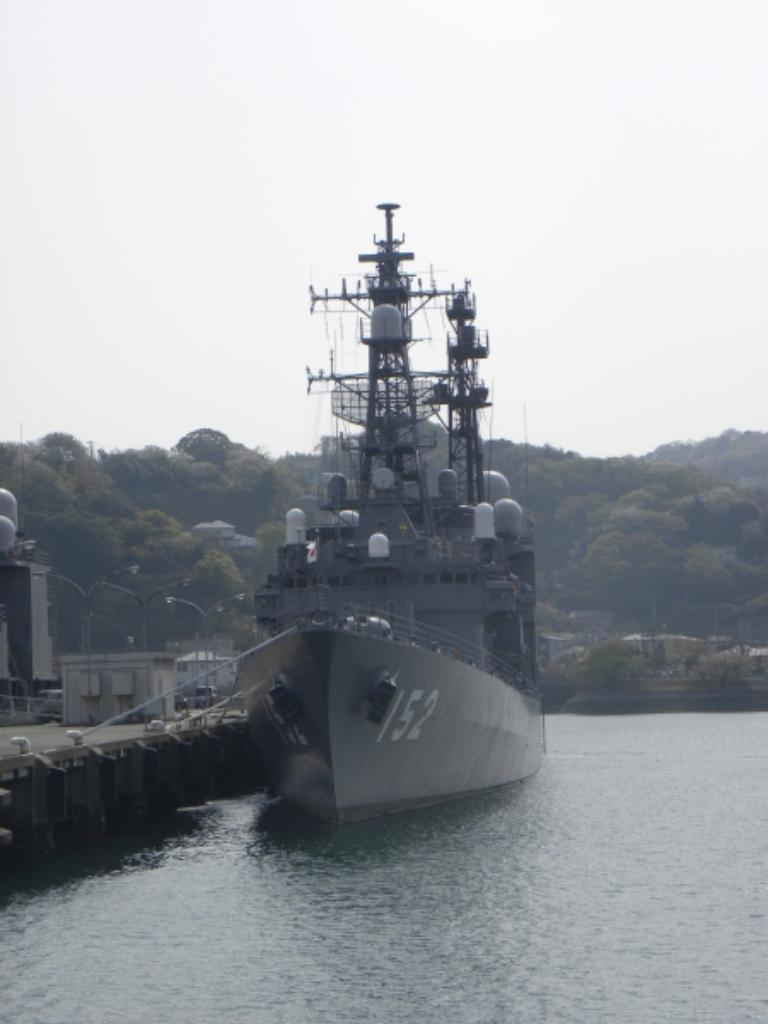Warship: (226, 194, 556, 826)
